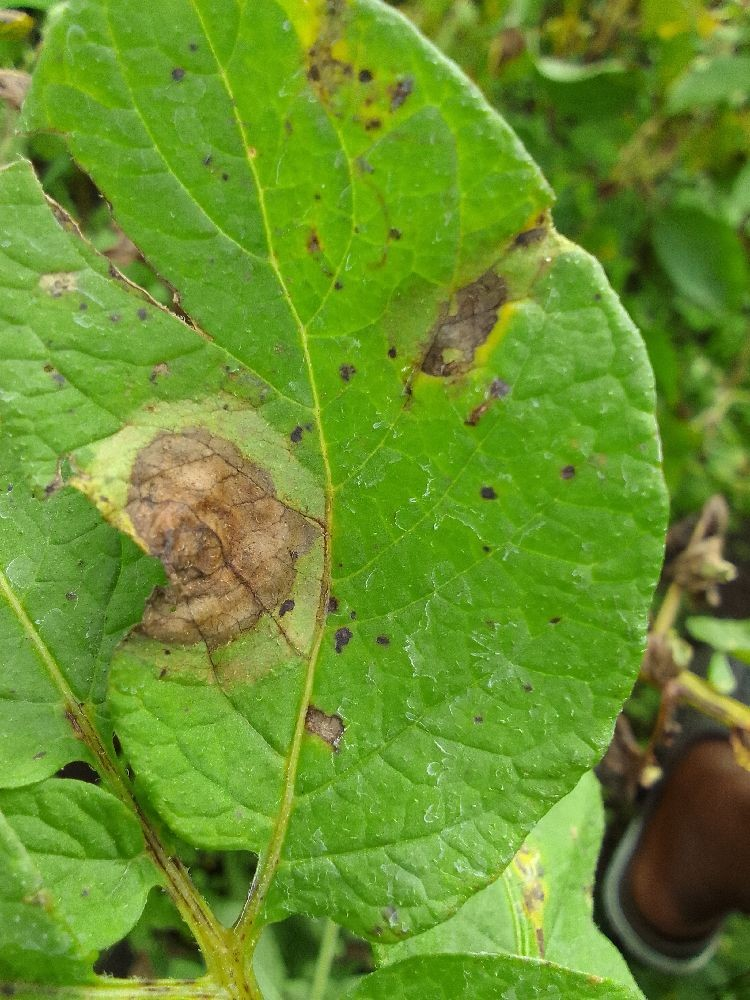late_blight: (534, 432, 750, 1000), (86, 407, 355, 695), (400, 255, 523, 397), (518, 0, 666, 85)
